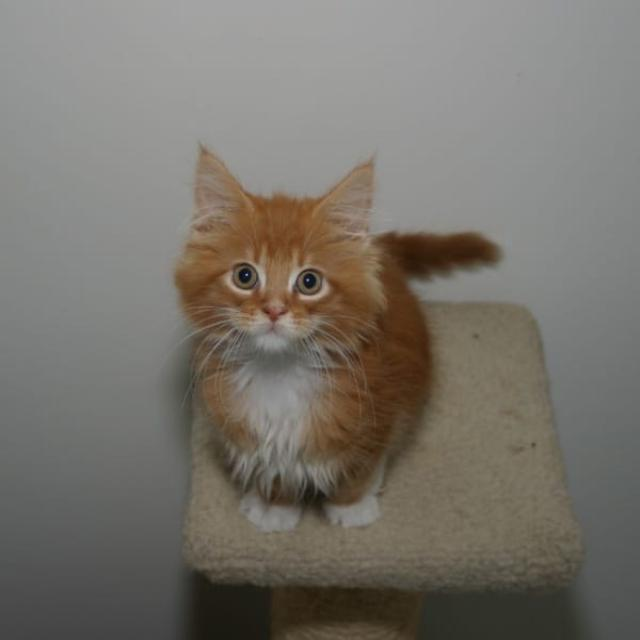Cats: (150, 130, 509, 540)
